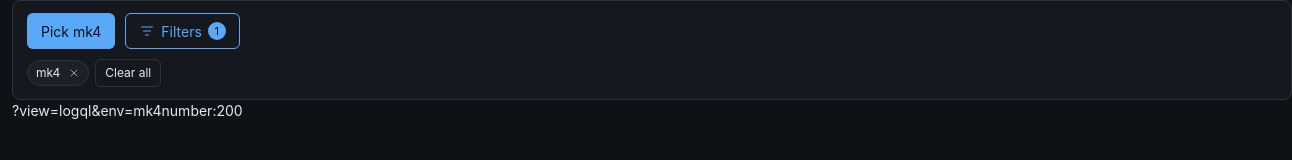
Scenario: useUrlFilters › keeps the other parameters of the page
The image size is (1292, 160).
Click the button "Clear all".
click(128, 73)  # box [95, 59, 161, 87]
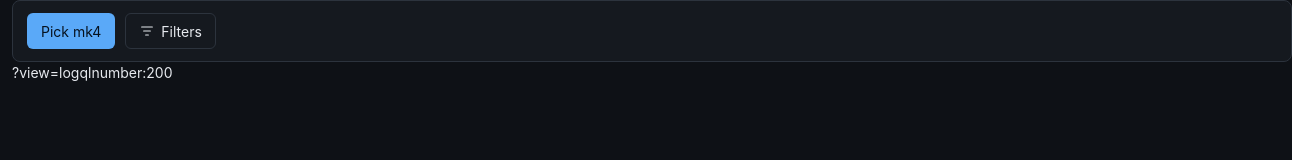
Check: the text with test id "url" reads "?view=logql", box [12, 64, 91, 81]
